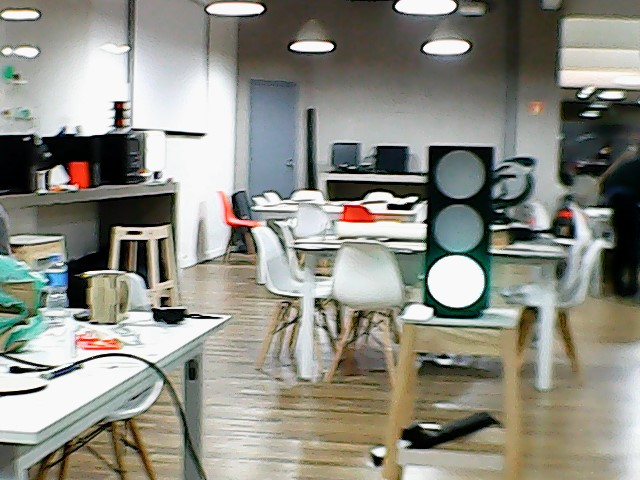verde: (424, 137, 496, 319)
